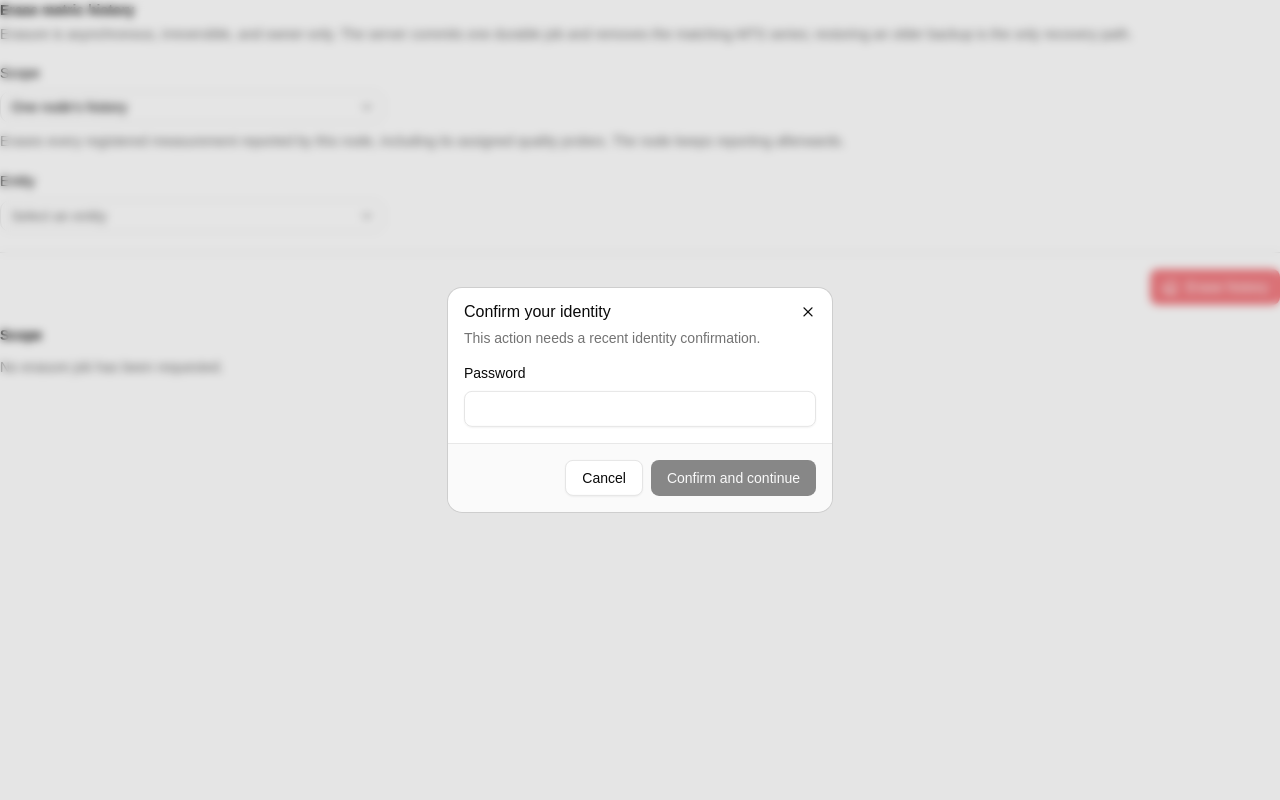
metric erasure panel › asks for a fresh identity proof when the erasure list is blocked by a 428
The width and height of the screenshot is (1280, 800).
Expected: the dialog shows "Confirm your identity", [464,303,611,320]
In the password field labelled "Password": coordinates (640, 409) [464,391,816,427], type "test password"
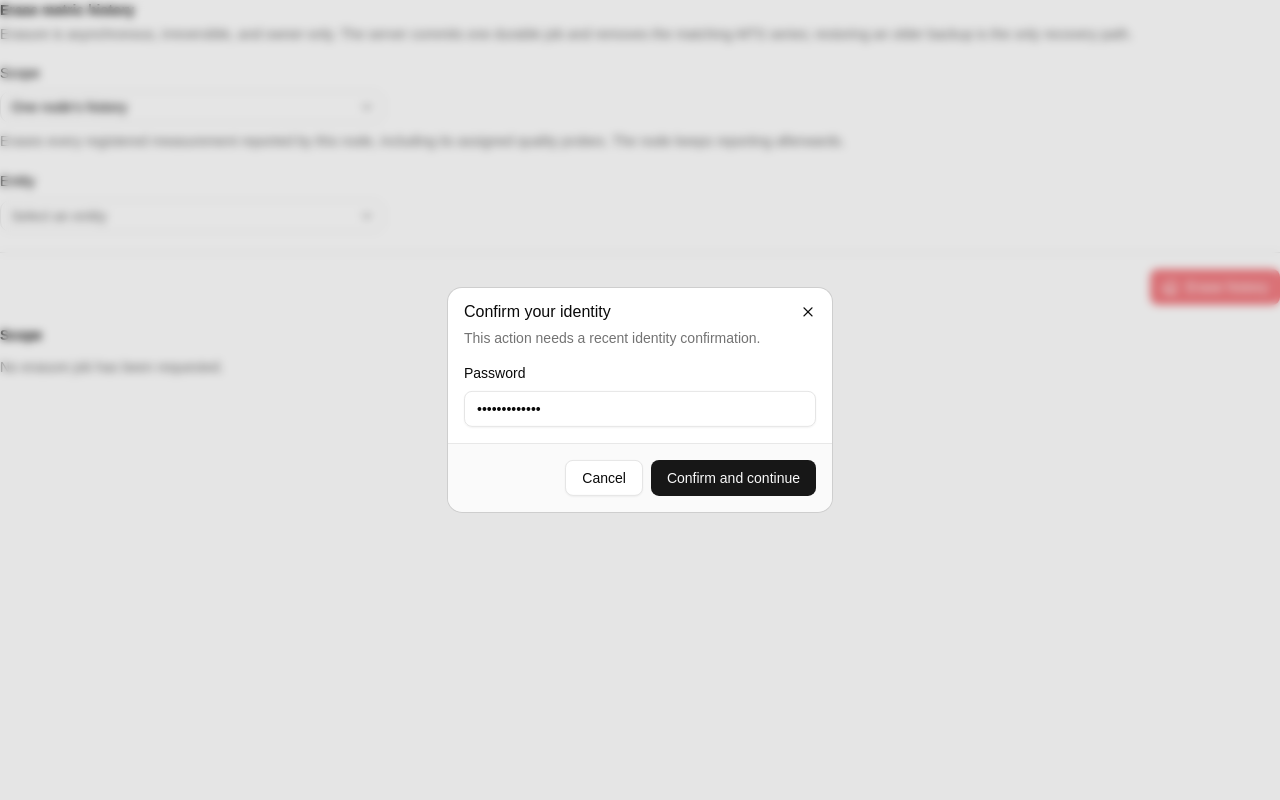
Click the button "Confirm and continue": coordinates (733, 478) [651,460,816,496]
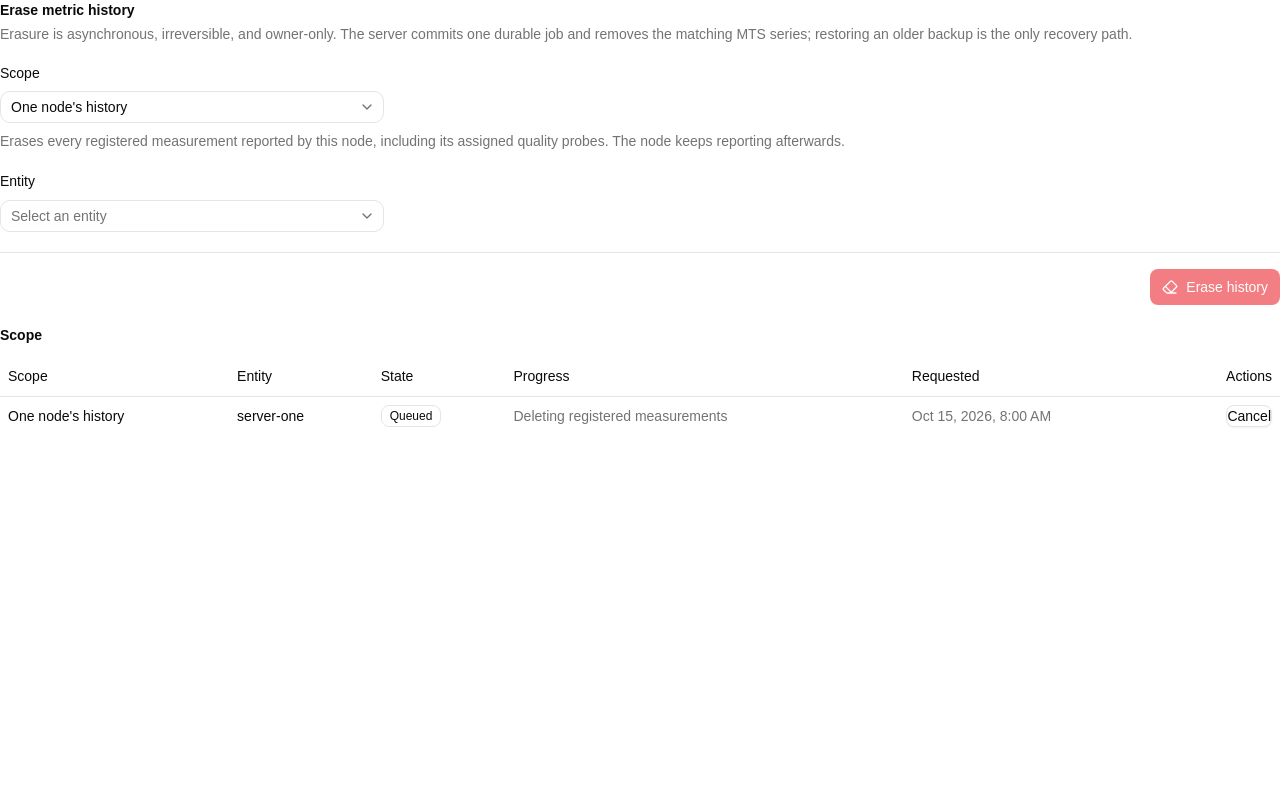
Result: the text "Queued" is shown at [381,405,441,427]
